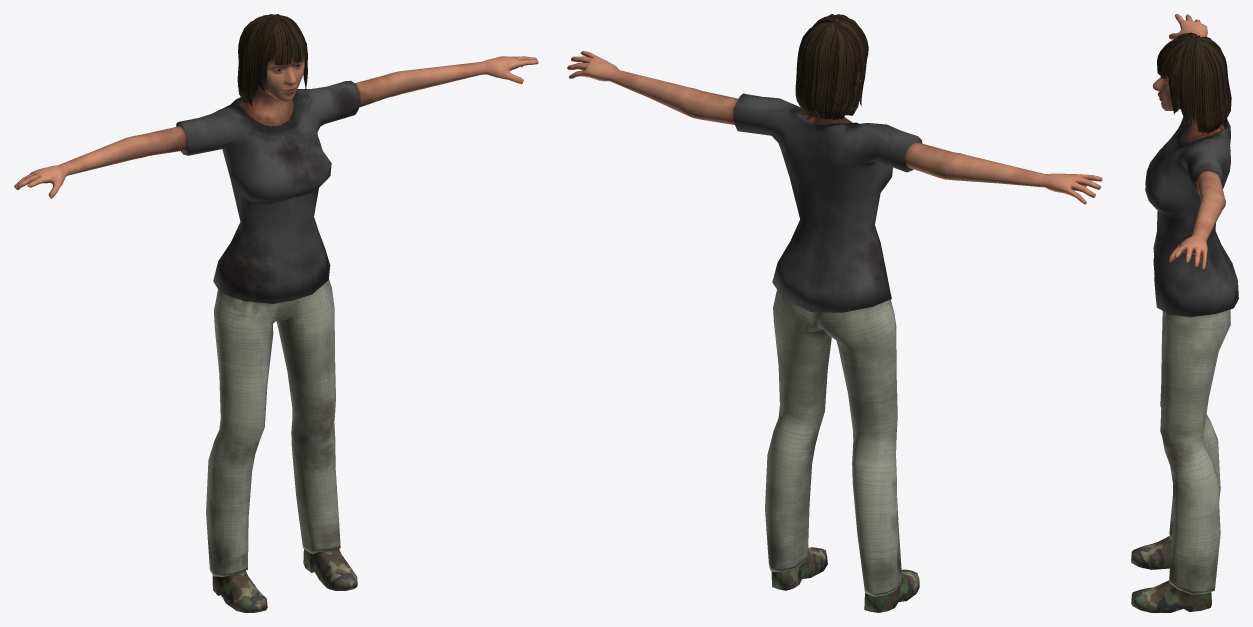
File: Character2.fbx.fbx
The picture shows the model from 3 angles, left to right: view 1: azimuth 30°, elevation 25°; view 2: azimuth 150°, elevation 25°; view 3: azimuth 270°, elevation 25°; orthographic projection. The views are drawn at different scales.
Parts seen in each view (by area): view 1: polySurface3.001; view 2: polySurface3.001; view 3: polySurface3.001.
Part boxes in pixels (x1,y1,x2,y2): polySurface3.001: (14,14,538,612); polySurface3.001: (567,14,1102,612); polySurface3.001: (1131,14,1238,612).
Size of the model in its own units: 156 by 162 by 28.9.
Materials: 1 (1 with a texture image).
